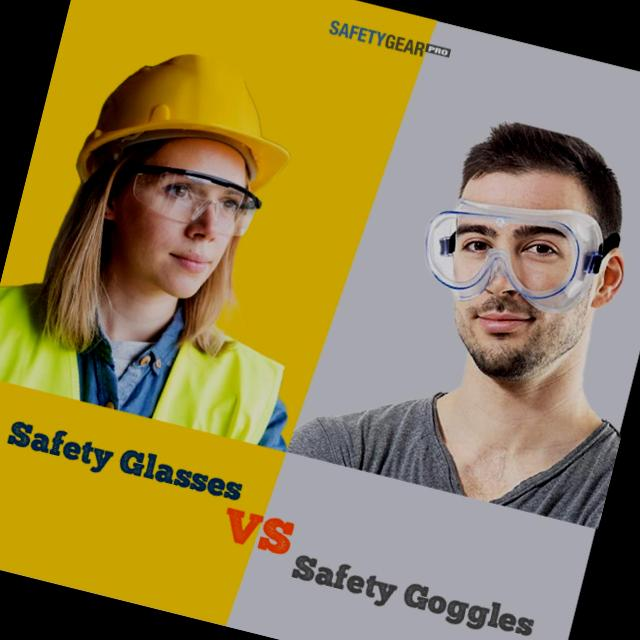goggles: (397, 165, 618, 328), (108, 148, 282, 254)
helmet: (74, 19, 308, 212)
no-helmet: (431, 67, 640, 209)
no-vest: (288, 329, 628, 543)
vest: (0, 272, 305, 447)
